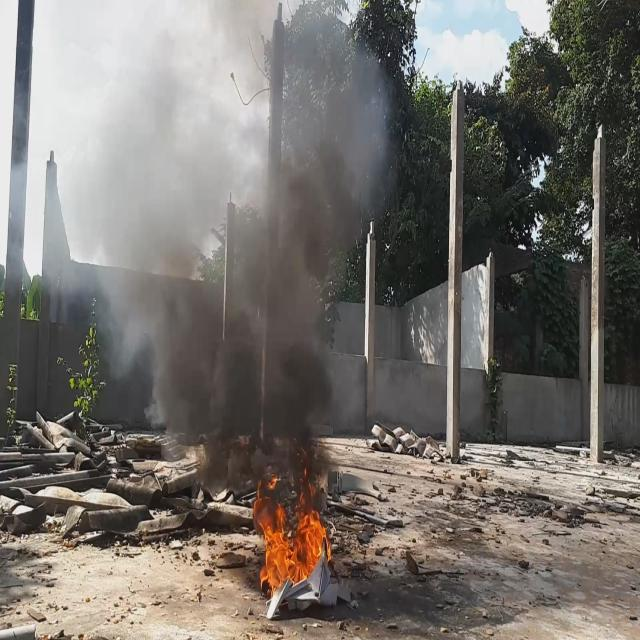Fire: (252, 480, 332, 594)
Smoke: (61, 0, 396, 515)
